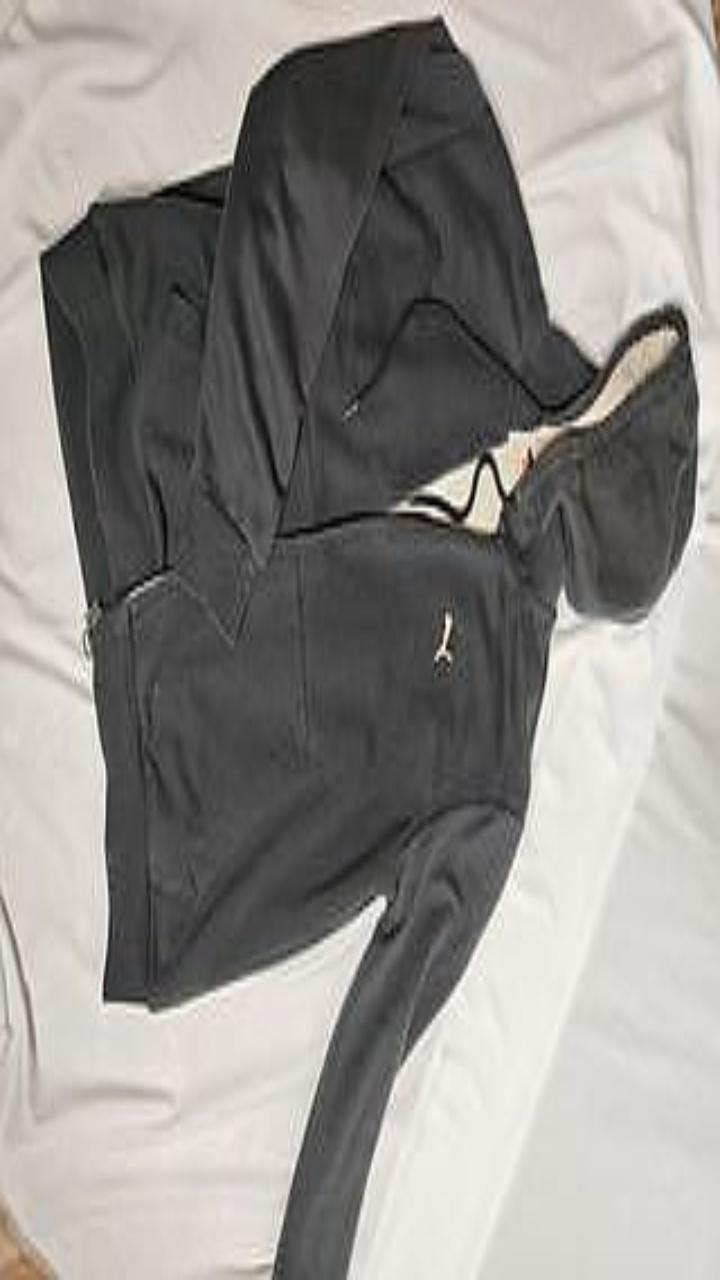Sports_Jacket: (41, 20, 696, 1279)
